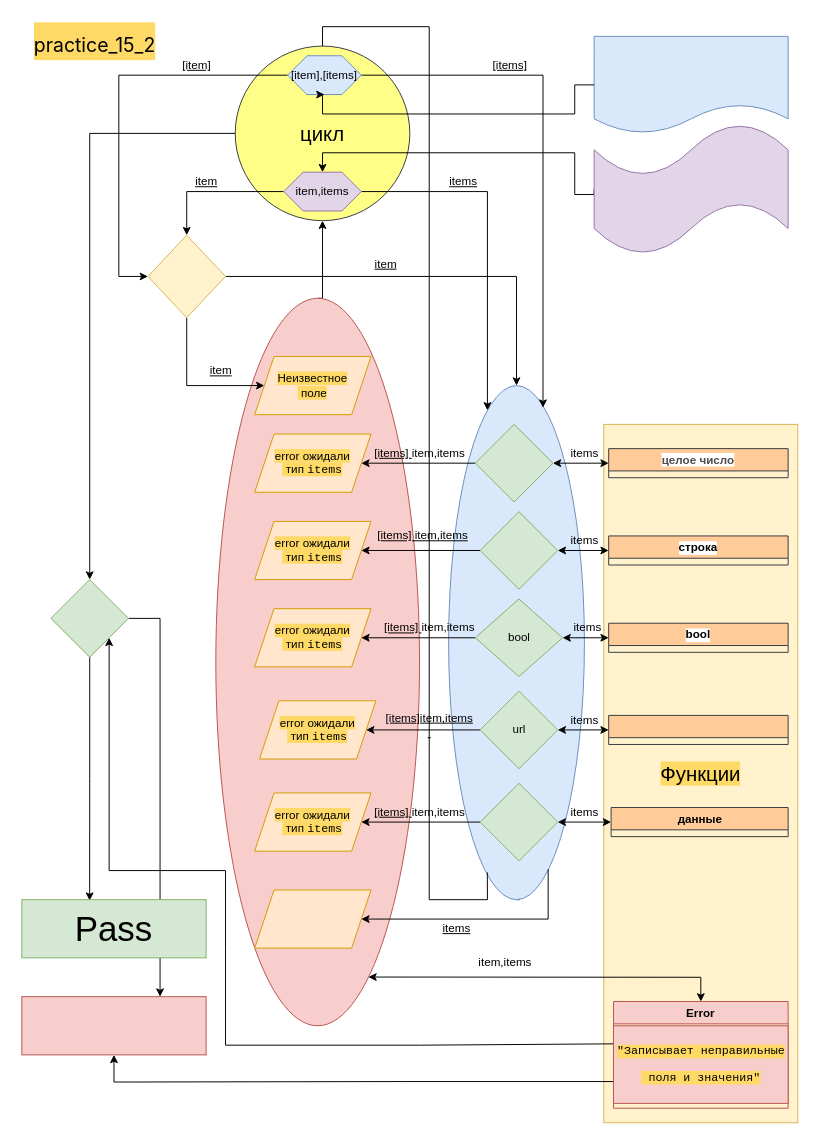
This 815x1140 diagram has some shape labels left out. Each missing label, with the centre of its shape:
Fail[Error]: point 113,1025
int: point 513,462
not Error: point 89,618
str: point 518,550
val: point 518,821
валид: point 186,276
Неожиданное значение: point 312,918
проверка json: point 690,189
ссылка: point 698,729
тестовые данные txt: point 690,84
